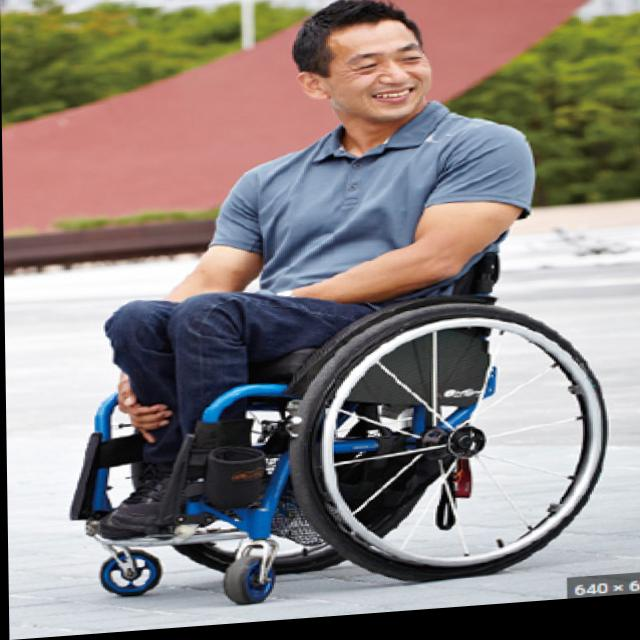wheelchair: (57, 0, 610, 618)
